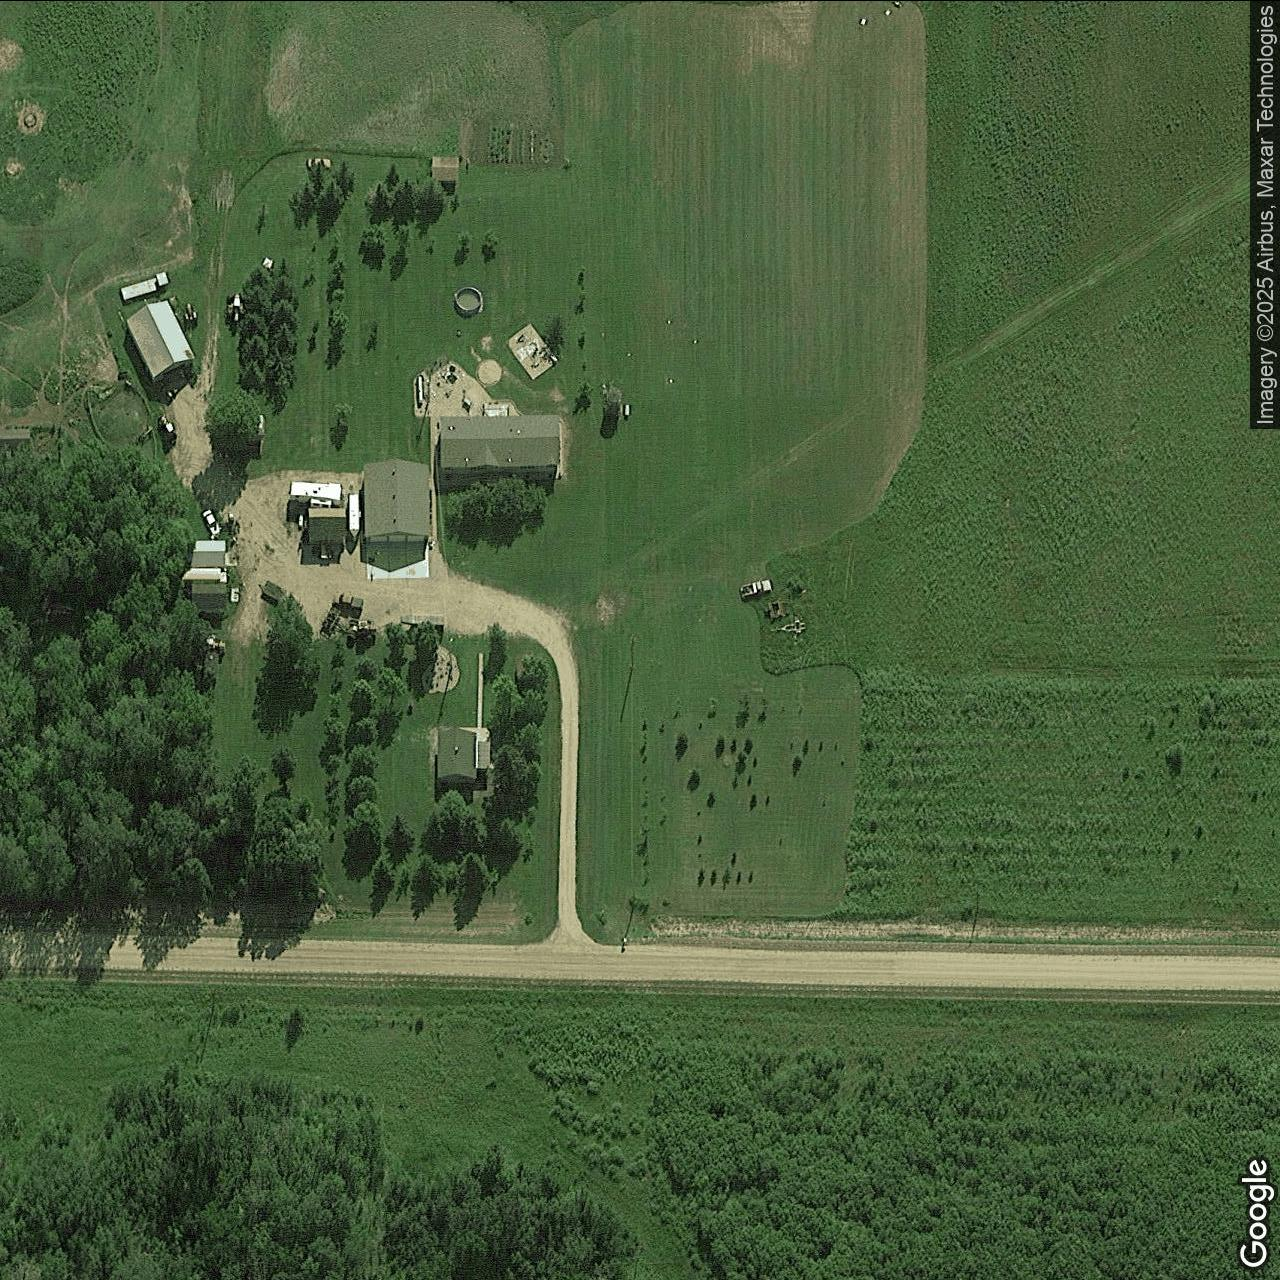Garage: (127, 299, 196, 381), (437, 727, 478, 782)
House: (440, 414, 559, 479), (363, 458, 429, 543)
Propane: (416, 373, 425, 401)
